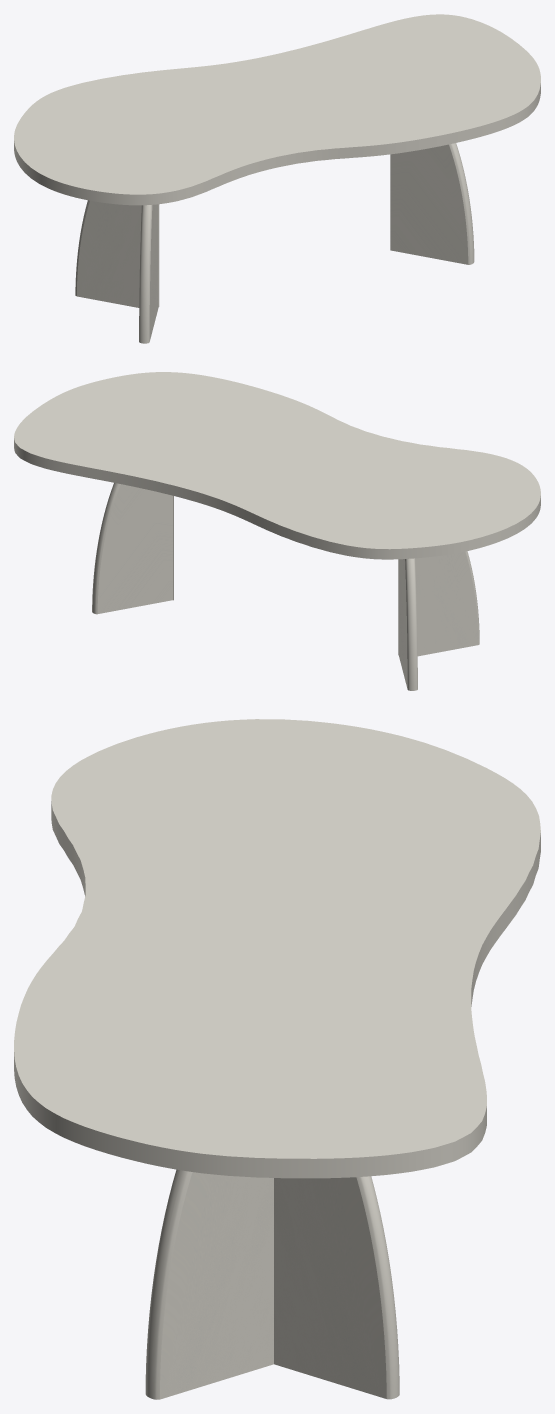
The model's file is pale_wave_standard_newtable2.glb.
3 views of the same model, one above another, from view 1: azimuth 30°, elevation 25°; view 2: azimuth 150°, elevation 25°; view 3: azimuth 270°, elevation 25° (orthographic). The views are drawn at different scales.
Parts seen in each view (by area): view 1: standard_wave, newtable2_singleright2, newtable2_singleleft1, newtable2_singleright1; view 2: standard_wave, newtable2_singleleft2, newtable2_singleright1, newtable2_singleleft1; view 3: standard_wave, newtable2_singleright2, newtable2_singleleft2.
Part boxes in pixels (x1=…): standard_wave: x1=14, y1=14, x2=540, y2=205; newtable2_singleright2: x1=390, y1=143, x2=474, y2=264; newtable2_singleleft1: x1=75, y1=200, x2=159, y2=307; newtable2_singleright1: x1=139, y1=204, x2=158, y2=343; standard_wave: x1=14, y1=372, x2=540, y2=559; newtable2_singleleft2: x1=92, y1=483, x2=173, y2=614; newtable2_singleright1: x1=398, y1=551, x2=479, y2=656; newtable2_singleleft1: x1=398, y1=558, x2=417, y2=690; standard_wave: x1=14, y1=719, x2=540, y2=1178; newtable2_singleright2: x1=145, y1=1169, x2=273, y2=1399; newtable2_singleleft2: x1=274, y1=1176, x2=399, y2=1399.
Size of the model in its own units: 7.5 by 2.49 by 3.8.
Materials: 1 (1 with a texture image).
